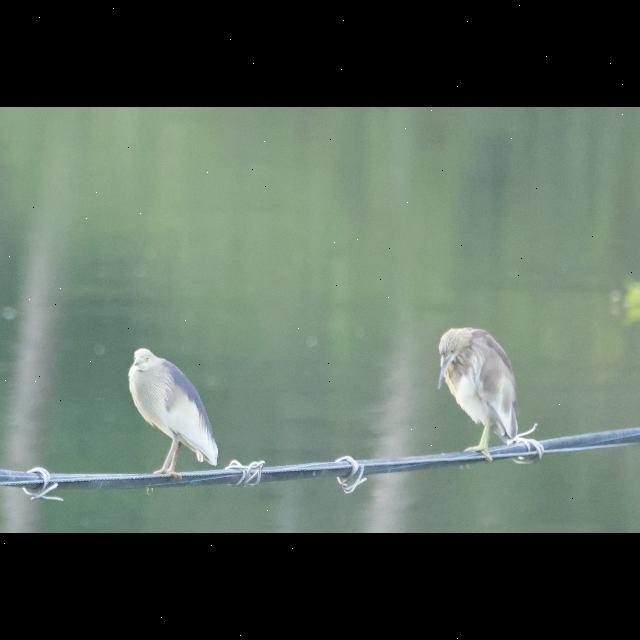heron: (121, 342, 222, 492), (430, 328, 536, 468)
